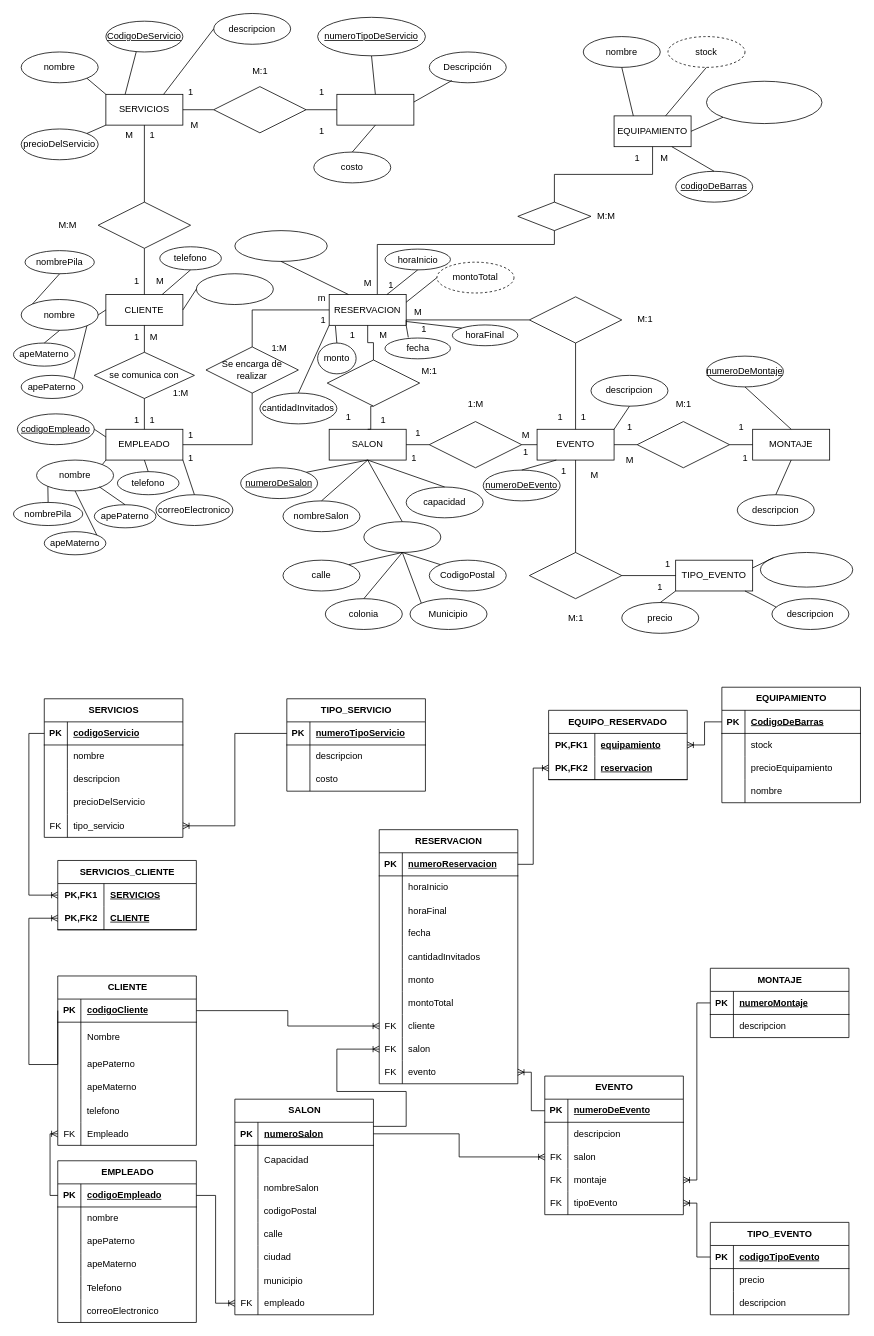
The diagram is 874 pixels wide and 1336 high, and some of its shapes have lost their labels. The centre of each missing label's shape, as x and y in pixels:
asigna: the point at 259,109
codigoDeCliente: the point at 234,289
codigoTipoDeEvento: the point at 806,569
direccionSalon: the point at 402,536
es requerido: the point at 554,216
numDeReservacion: the point at 280,245
pertenece a: the point at 373,382
posee: the point at 575,575
precioDelEquipamiento: the point at 764,102
se le efectua: the point at 683,444
se registra para: the point at 575,319
Son otorgados a: the point at 144,224
tiene: the point at 475,444
TIPO DE SERVICIO: the point at 375,109
